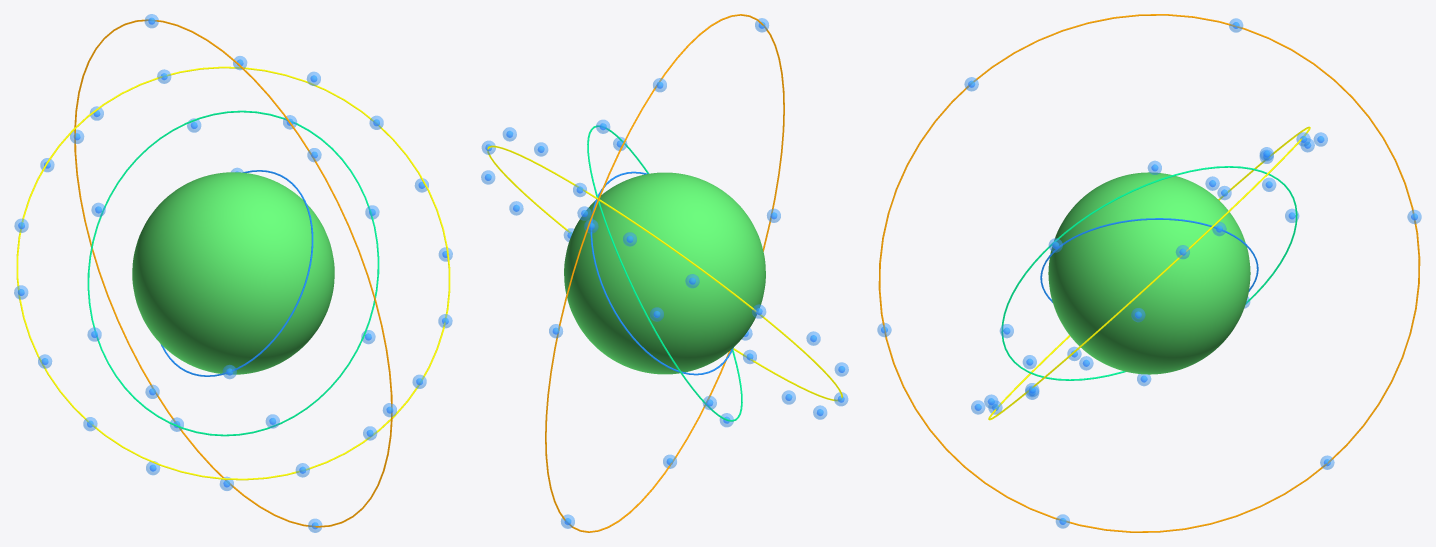
3 views of the same model, side by side, from view 1: azimuth 30°, elevation 25°; view 2: azimuth 150°, elevation 25°; view 3: azimuth 270°, elevation 25° (orthographic).
Parts seen in each view (by area): view 1: Se, object 24, object 61, object 7, object 2; view 2: Se, object 61, object 24, object 7, object 2; view 3: Se, object 61, object 7, object 24, object 2.
Boxes of the visible parts, <box> form: Se: <box>132,172,334,374</box>; object 24: <box>16,66,450,480</box>; object 61: <box>74,19,392,527</box>; object 7: <box>87,110,379,436</box>; object 2: <box>160,170,313,376</box>; Se: <box>564,172,765,374</box>; object 61: <box>545,14,784,532</box>; object 24: <box>487,145,842,401</box>; object 7: <box>587,125,742,421</box>; object 2: <box>590,171,733,375</box>; Se: <box>1048,172,1250,374</box>; object 61: <box>878,14,1420,532</box>; object 7: <box>1001,166,1297,380</box>; object 24: <box>988,126,1310,420</box>; object 2: <box>1040,218,1258,302</box>.
Bounding box in the file's own units: 4.82 × 5.97 × 6.03.
